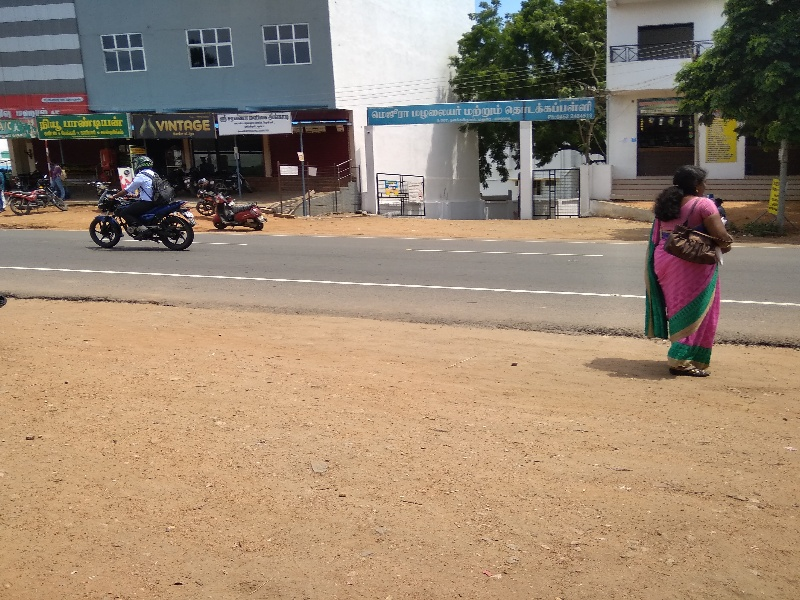biker: (78, 128, 213, 259)
helmet: (129, 149, 157, 177)
